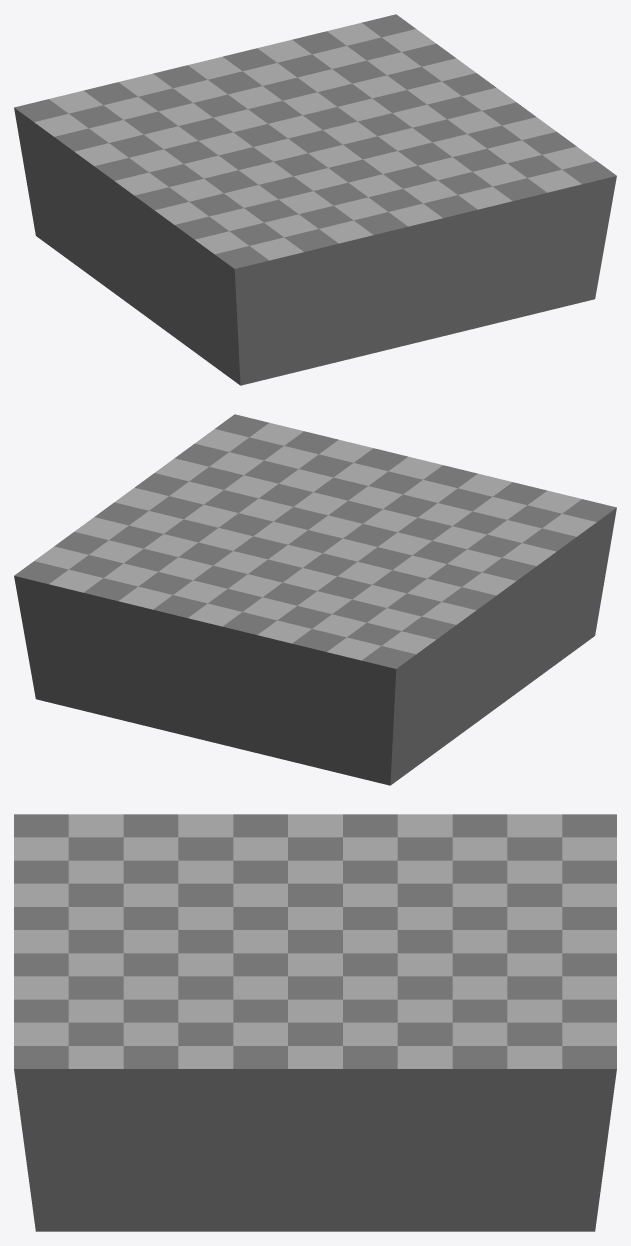
The model's file is model_test_ground.fbx.
3 renders of one model, top to bottom at view 1: azimuth 30°, elevation 25°; view 2: azimuth 150°, elevation 25°; view 3: azimuth 270°, elevation 25°, orthographic. The views are drawn at different scales.
Parts seen in each view (by area): view 1: model_test_ground; view 2: model_test_ground; view 3: model_test_ground.
Part boxes in pixels (x1=…): model_test_ground: x1=14, y1=14, x2=616, y2=385; model_test_ground: x1=14, y1=414, x2=616, y2=785; model_test_ground: x1=14, y1=814, x2=616, y2=1231.
Size of the model in its own units: 9648 by 3037 by 9648.
